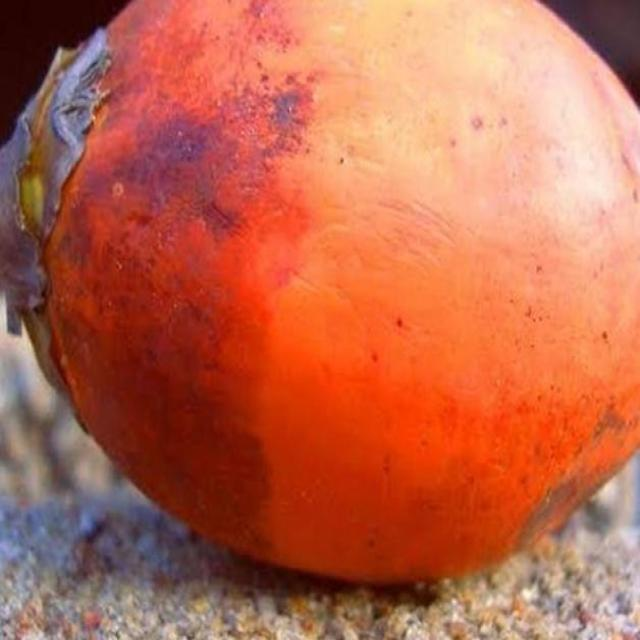good: (0, 0, 639, 590)
